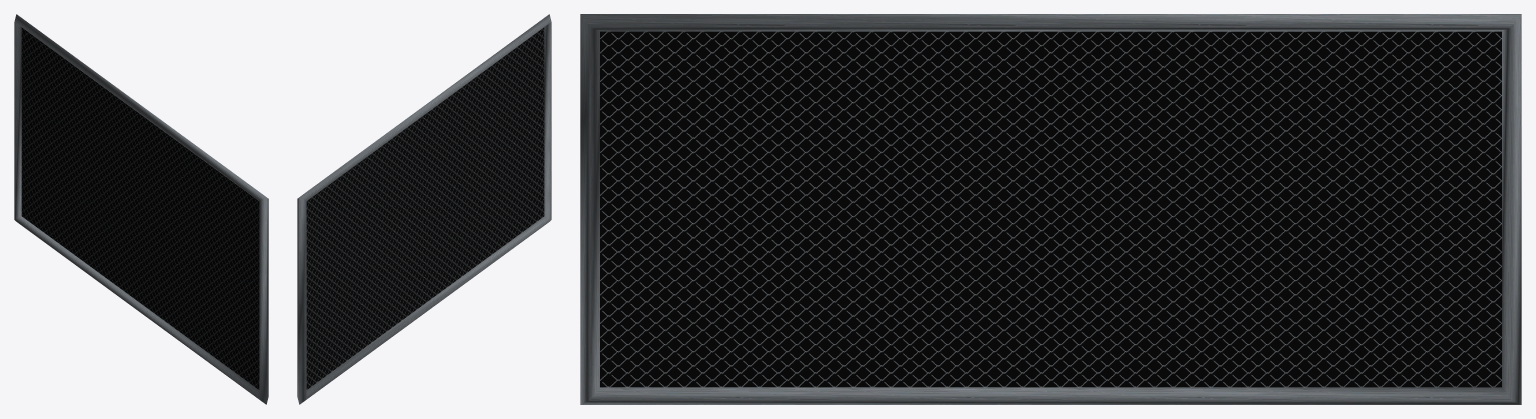
File: M10_Zone2_SlidingGate1.glb
The picture shows the model from 3 angles, left to right: view 1: azimuth 30°, elevation 25°; view 2: azimuth 150°, elevation 25°; view 3: azimuth 270°, elevation 25°; orthographic projection. The views are drawn at different scales.
Parts seen in each view (by area): view 1: M10_ZONE2_SLIDINGGATE1; view 2: M10_ZONE2_SLIDINGGATE1; view 3: M10_ZONE2_SLIDINGGATE1.
Part boxes in pixels (x1,y1,x2,y2): M10_ZONE2_SLIDINGGATE1: (14,14,268,404); M10_ZONE2_SLIDINGGATE1: (297,14,551,404); M10_ZONE2_SLIDINGGATE1: (580,14,1521,404).
Bounding box in the file's own units: 0.126 × 2.75 × 6.
2 materials, 2 textured.
